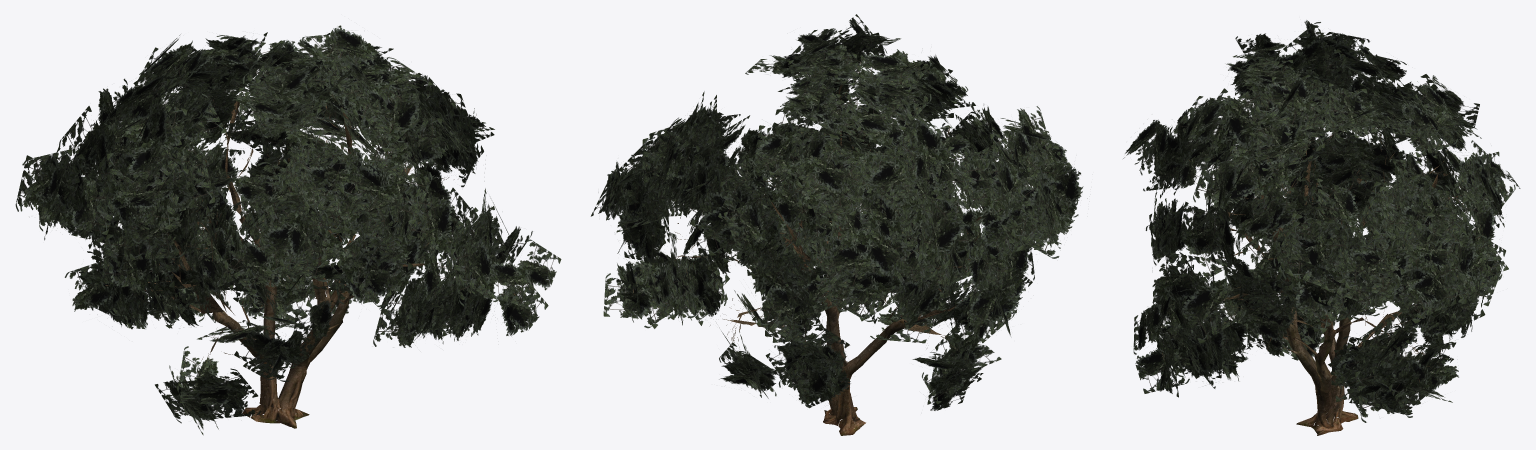
The model's file is keng_0.glb.
The picture shows the model from 3 angles, left to right: view 1: azimuth 30°, elevation 25°; view 2: azimuth 150°, elevation 25°; view 3: azimuth 270°, elevation 25°; orthographic projection. The views are drawn at different scales.
Visible parts, largest first — view 1: keng_0_leaves, jacaranda_tree_trunk, jacaranda_tree_branches; view 2: keng_0_leaves, jacaranda_tree_trunk, jacaranda_tree_branches; view 3: keng_0_leaves, jacaranda_tree_trunk, jacaranda_tree_branches.
Boxes of the visible parts, x1,y1,x2,y2 form: keng_0_leaves: (15, 25, 561, 435); jacaranda_tree_trunk: (212, 214, 373, 428); jacaranda_tree_branches: (91, 52, 523, 369); keng_0_leaves: (591, 14, 1087, 410); jacaranda_tree_trunk: (747, 213, 905, 435); jacaranda_tree_branches: (633, 62, 1053, 351); keng_0_leaves: (1123, 20, 1520, 422); jacaranda_tree_trunk: (1276, 271, 1388, 435); jacaranda_tree_branches: (1151, 75, 1483, 392).
Size of the model in its own units: 16.16 by 13.18 by 12.75.
Materials: 3 (3 with a texture image).
